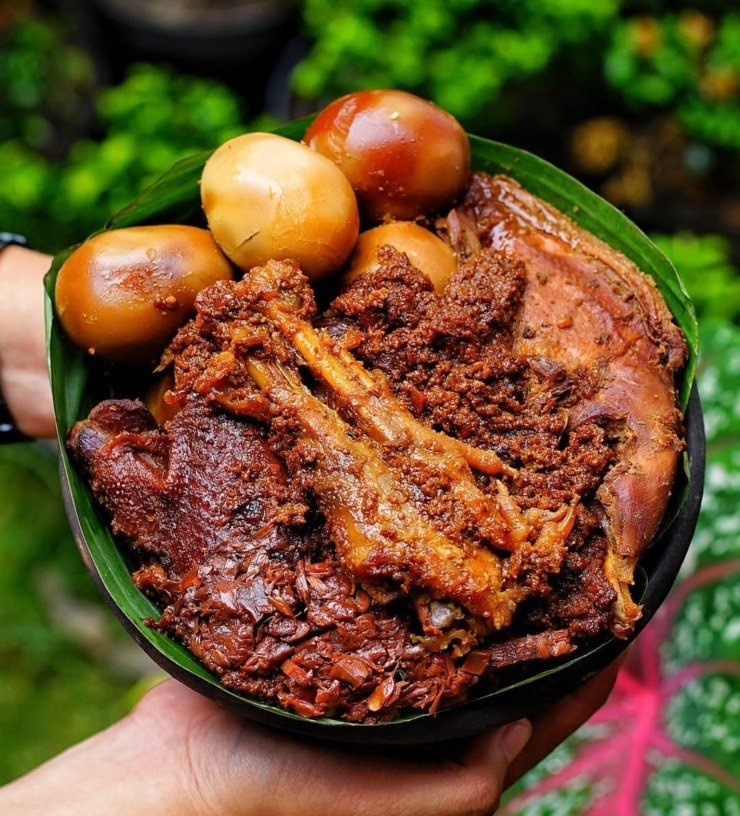gudeg: (50, 129, 720, 708)
